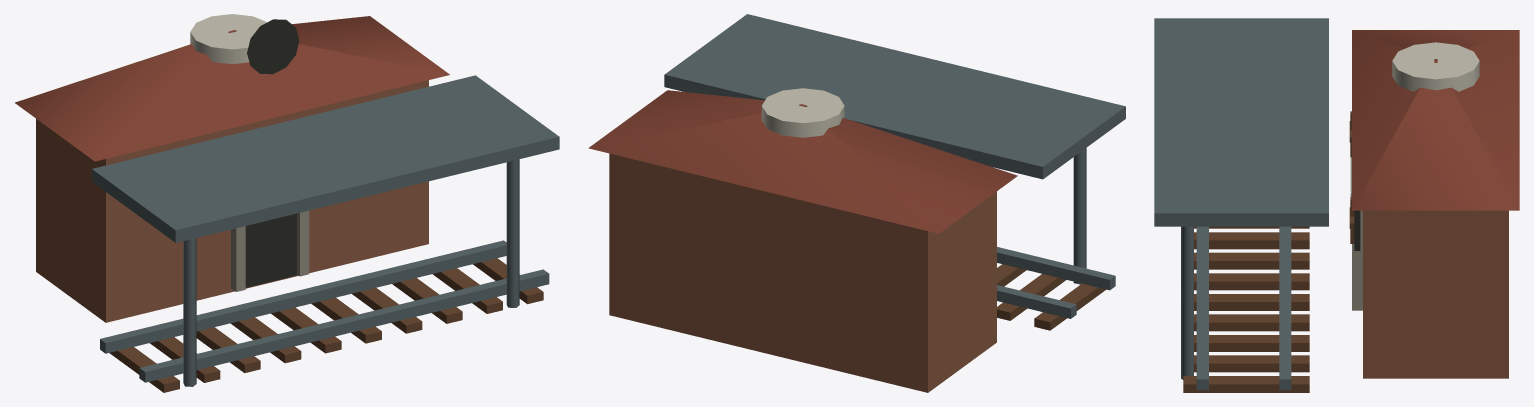
File: custom-cb-station.glb
3 views of the same model, side by side, from view 1: azimuth 30°, elevation 25°; view 2: azimuth 150°, elevation 25°; view 3: azimuth 270°, elevation 25° (orthographic). The views are drawn at different scales.
Parts seen in each view (by area): view 1: custom-cb-station; view 2: custom-cb-station; view 3: custom-cb-station.
Part boxes in pixels (box(x1,y1,x2,y2)): custom-cb-station: box(15, 14, 559, 392); custom-cb-station: box(588, 14, 1125, 392); custom-cb-station: box(1154, 18, 1519, 392).
Size of the model in its own units: 1 by 0.635 by 0.7525.
